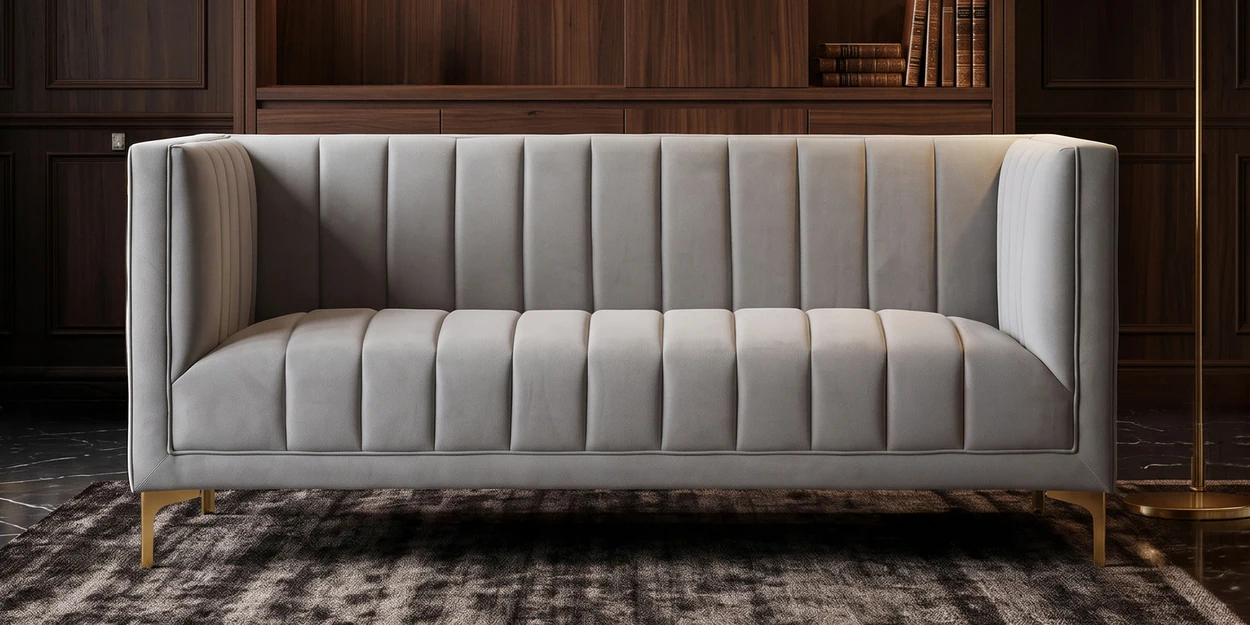3seatersofa: (126, 135, 1116, 566)
backrest: (230, 135, 1017, 324)
base: (134, 454, 1113, 491)
leftarmrest: (999, 135, 1115, 491)
leg: (141, 489, 214, 567), (1035, 491, 1105, 565)
rightarmrest: (127, 136, 258, 486)
seat: (172, 309, 1074, 451)
